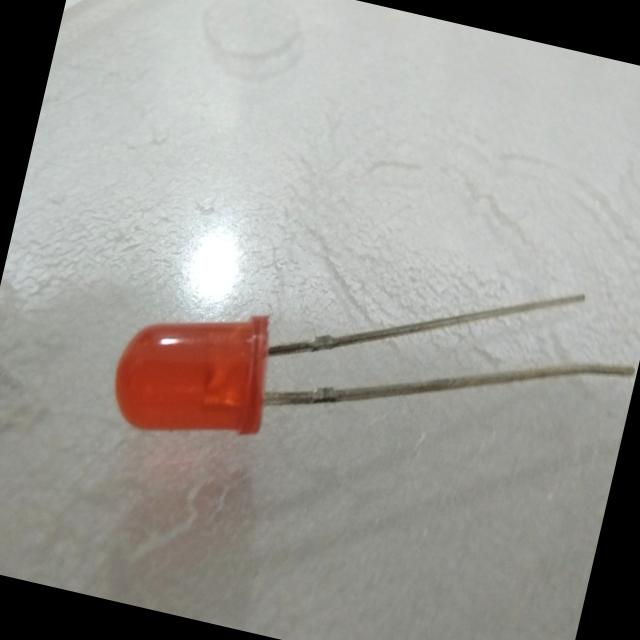red_led: (88, 268, 306, 475)
